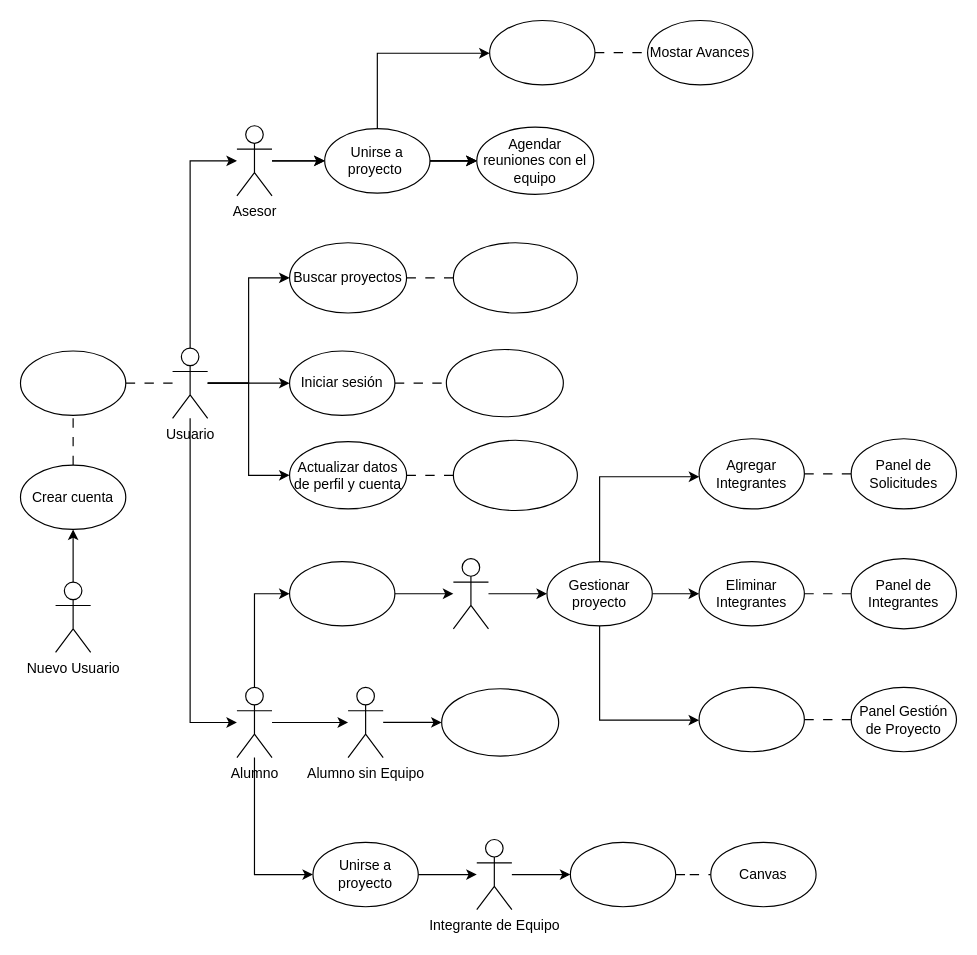
Some shapes in this 977 by 955 pixel diagram are drawn without their labels. The centre of each missing label's shape, as x and y in pixels:
Actualizar Proyecto: point 751,719
Crear proyecto: point 341,593
Gestionar activades asignadas: point 622,874
Líder de Equipo: point 470,593
Panel de Búsqueda de Proyecto: point 514,277
Panel de Gestión de Cuenta: point 514,474
Solicitud de Admisión de Proyecto: point 500,722
Validar Correo: point 72,382
Validar Credenciales: point 504,382
Visualizar Progreso de Proyecto: point 541,52
